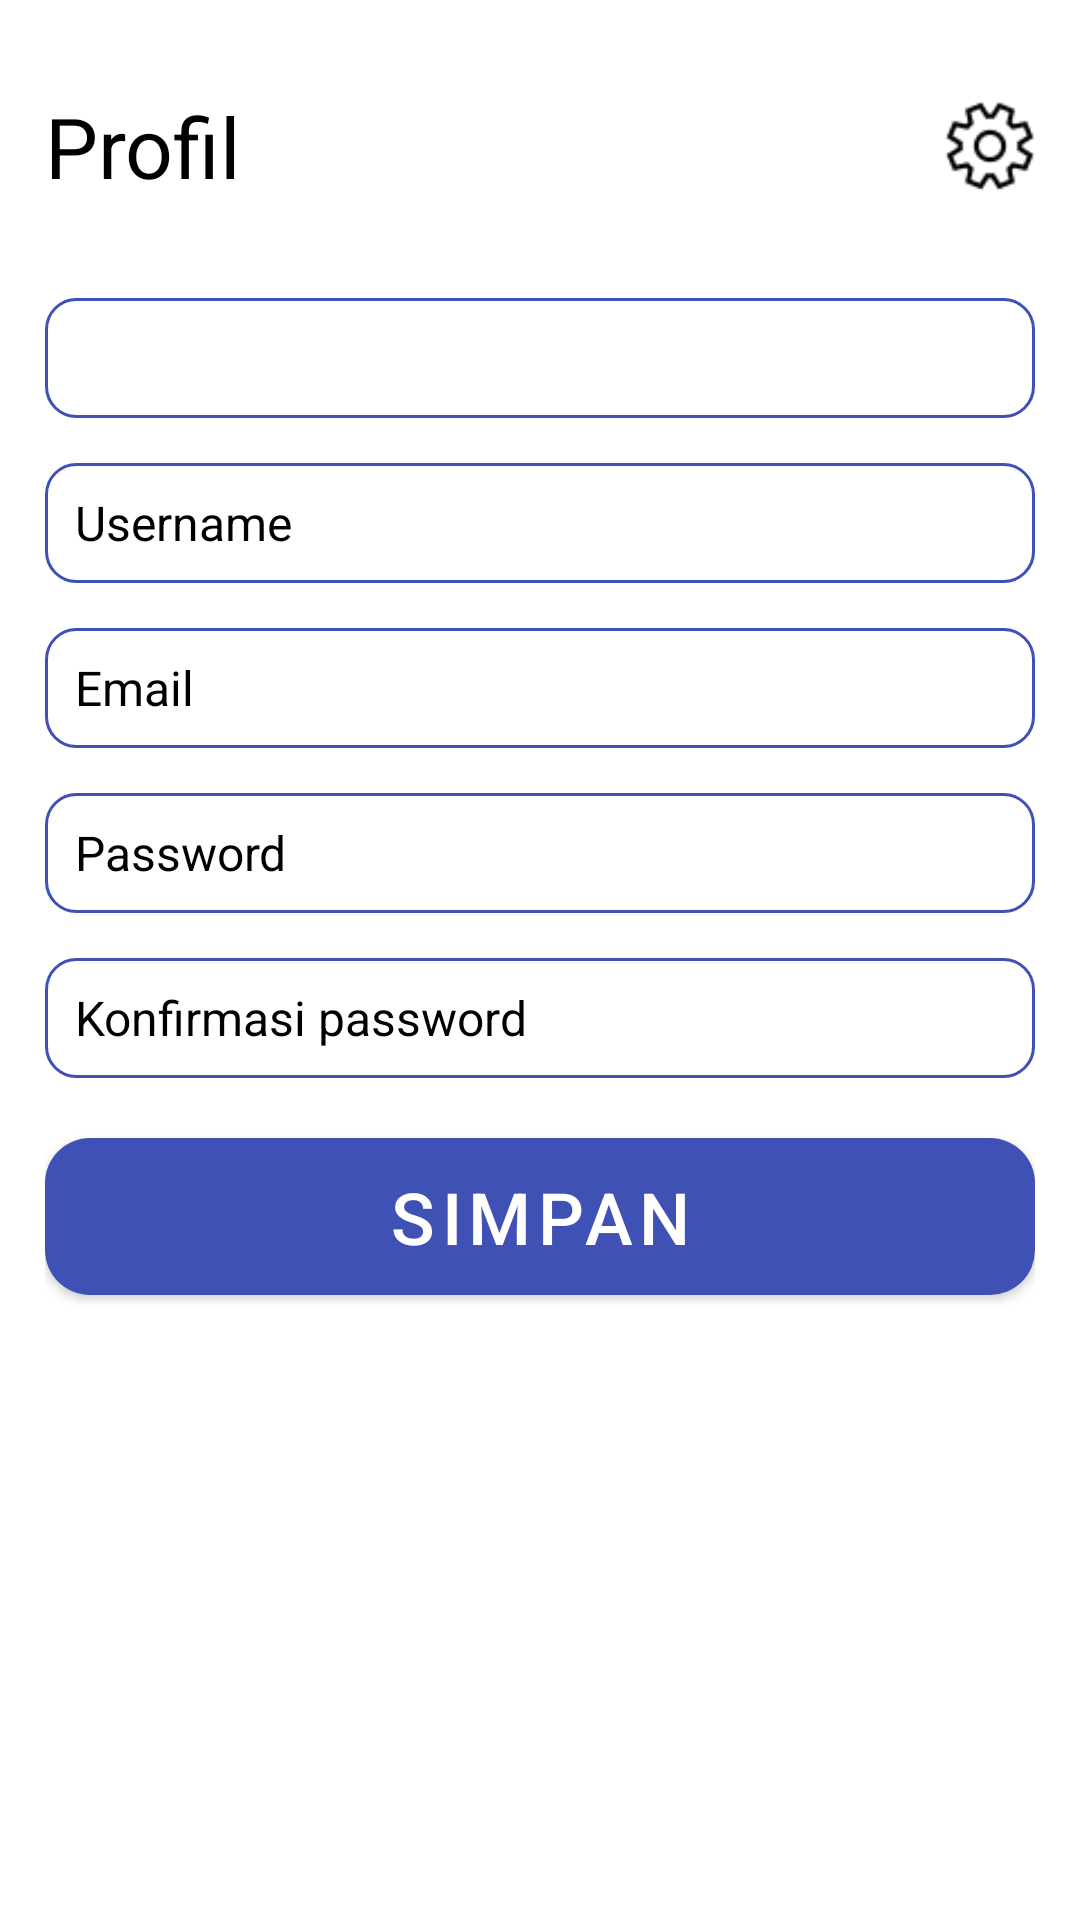

Icon click points for this 1080 × 1920 phone screenshot, format (x,y):
Ikon pengaturan: (990,146)
